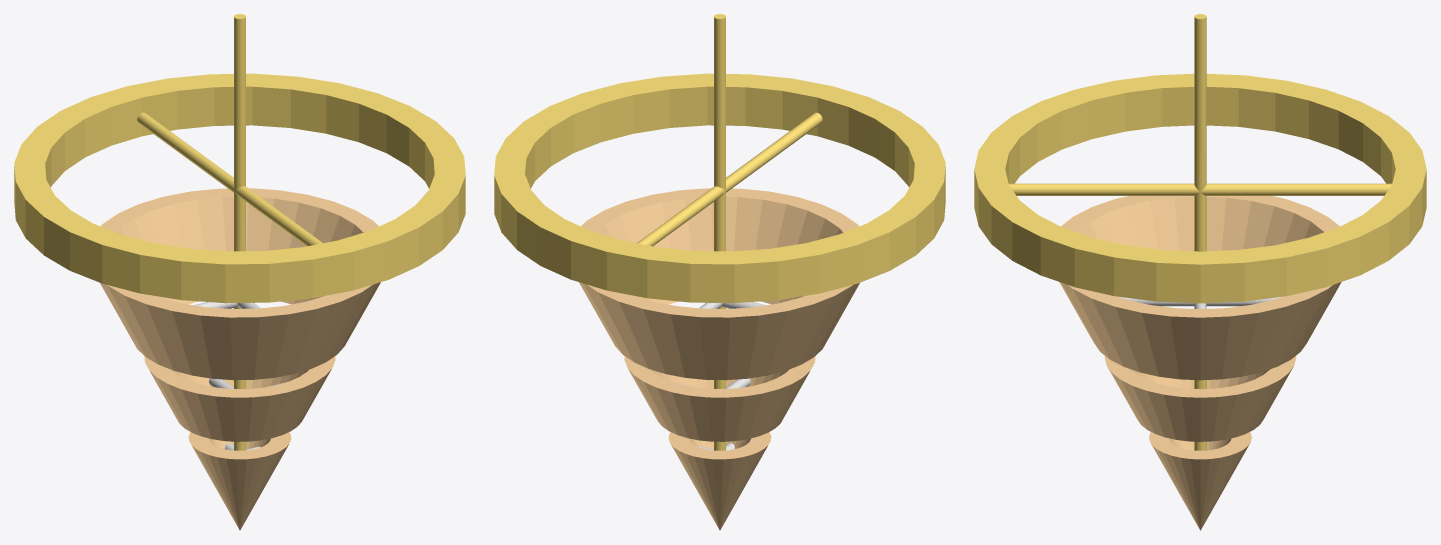
File: chand_1.fbx
3 views of the same model, side by side, from view 1: azimuth 30°, elevation 25°; view 2: azimuth 150°, elevation 25°; view 3: azimuth 270°, elevation 25° (orthographic).
Visible parts, largest first — view 1: Cerchio_Metallo, Vetro, Supporto; view 2: Cerchio_Metallo, Vetro, Supporto; view 3: Cerchio_Metallo, Vetro, Supporto, Tubi_Luce_X.
Boxes of the visible parts, x1,y1,x2,y2 form: Cerchio_Metallo: (14,73,465,303); Vetro: (100,188,380,530); Supporto: (137,14,322,450); Cerchio_Metallo: (494,73,945,303); Vetro: (579,188,859,530); Supporto: (637,14,822,450); Cerchio_Metallo: (974,73,1426,303); Vetro: (1059,196,1341,530); Supporto: (1008,14,1392,450); Tubi_Luce_X: (1118,296,1282,306).
Bounding box in the file's own units: 295 × 370 × 295.
